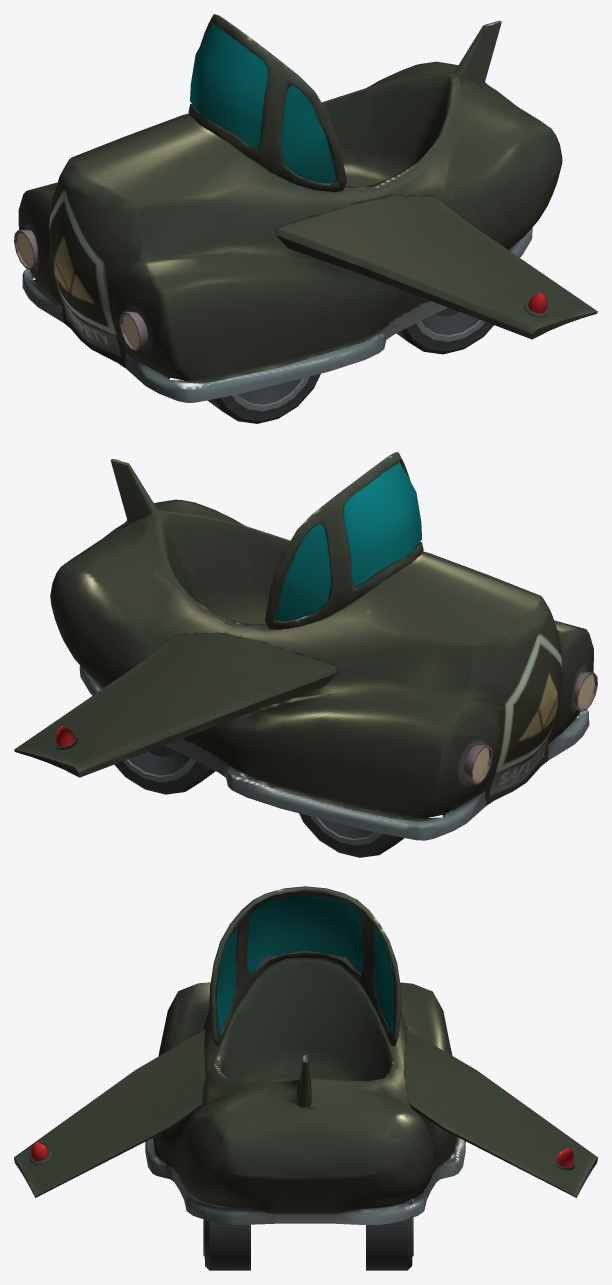
Rendered from TS_car.fbx.
3 renders of one model, top to bottom at view 1: azimuth 30°, elevation 25°; view 2: azimuth 150°, elevation 25°; view 3: azimuth 270°, elevation 25°, orthographic. The views are drawn at different scales.
Visible parts, largest first — view 1: car, TS_tyre_01, TS_tyre_002; view 2: car, TS_tyre_004, TS_tyre_003; view 3: car, TS_tyre_004, TS_tyre_002.
Boxes of the visible parts, x1,y1,x2,y2 form: car: (14,14,597,402); TS_tyre_01: (207,373,320,423); TS_tyre_002: (396,307,493,354); car: (14,452,597,840); TS_tyre_004: (114,745,215,794); TS_tyre_003: (299,813,404,857); car: (14,886,597,1224); TS_tyre_004: (366,1198,413,1270); TS_tyre_002: (203,1219,250,1270).
Bounding box in the file's own units: 0.7805 × 0.5316 × 0.9323.
